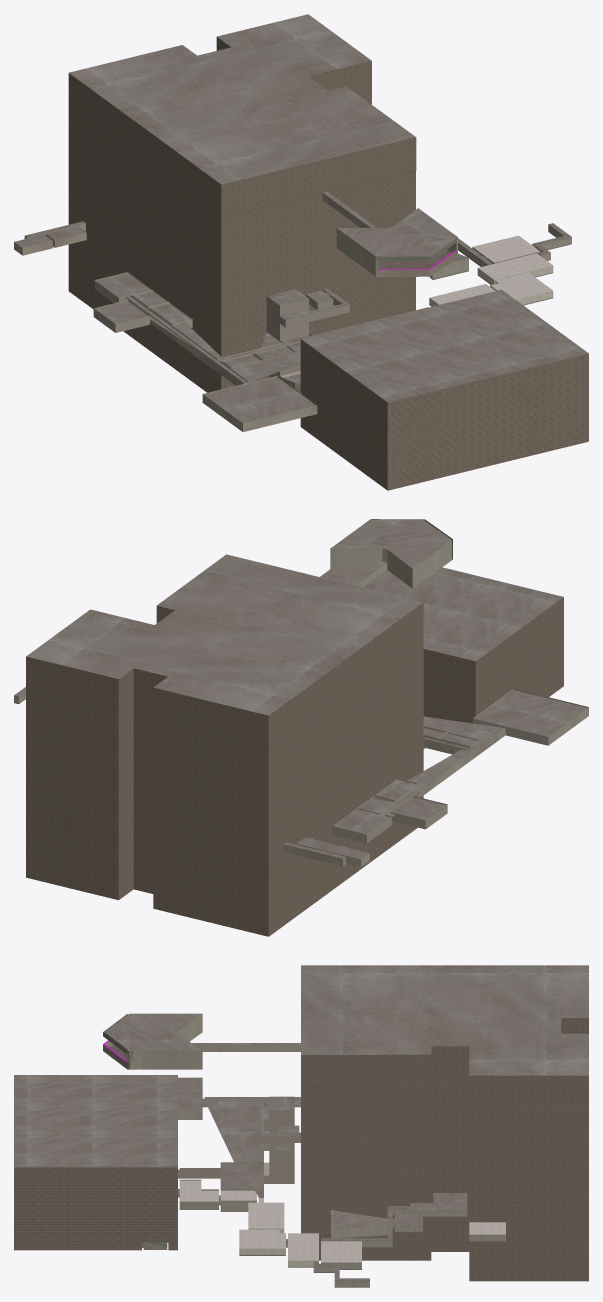
The model's file is map_layoutMoulure.fbx.
3 views of the same model, one above another, from view 1: azimuth 30°, elevation 25°; view 2: azimuth 150°, elevation 25°; view 3: azimuth 270°, elevation 25° (orthographic). The views are drawn at different scales.
Parts seen in each view (by area): view 1: wallBig, ceiling, wall; view 2: wallBig, ceiling, wall; view 3: wallBig, ceiling, wall.
Part boxes in pixels (bbox=[...]): wallBig: bbox=[68, 37, 588, 490]; ceiling: bbox=[14, 14, 588, 423]; wall: bbox=[14, 193, 571, 431]; wallBig: bbox=[26, 597, 563, 936]; ceiling: bbox=[14, 519, 587, 859]; wall: bbox=[14, 519, 588, 866]; wallBig: bbox=[14, 1018, 588, 1281]; ceiling: bbox=[14, 965, 588, 1280]; wall: bbox=[103, 1014, 505, 1287].
Bounding box in the file's own units: 18202 × 8615 × 21828.
